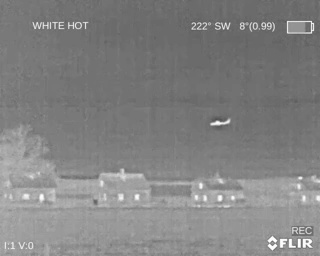AIRPLANE: (209, 117, 231, 127)
